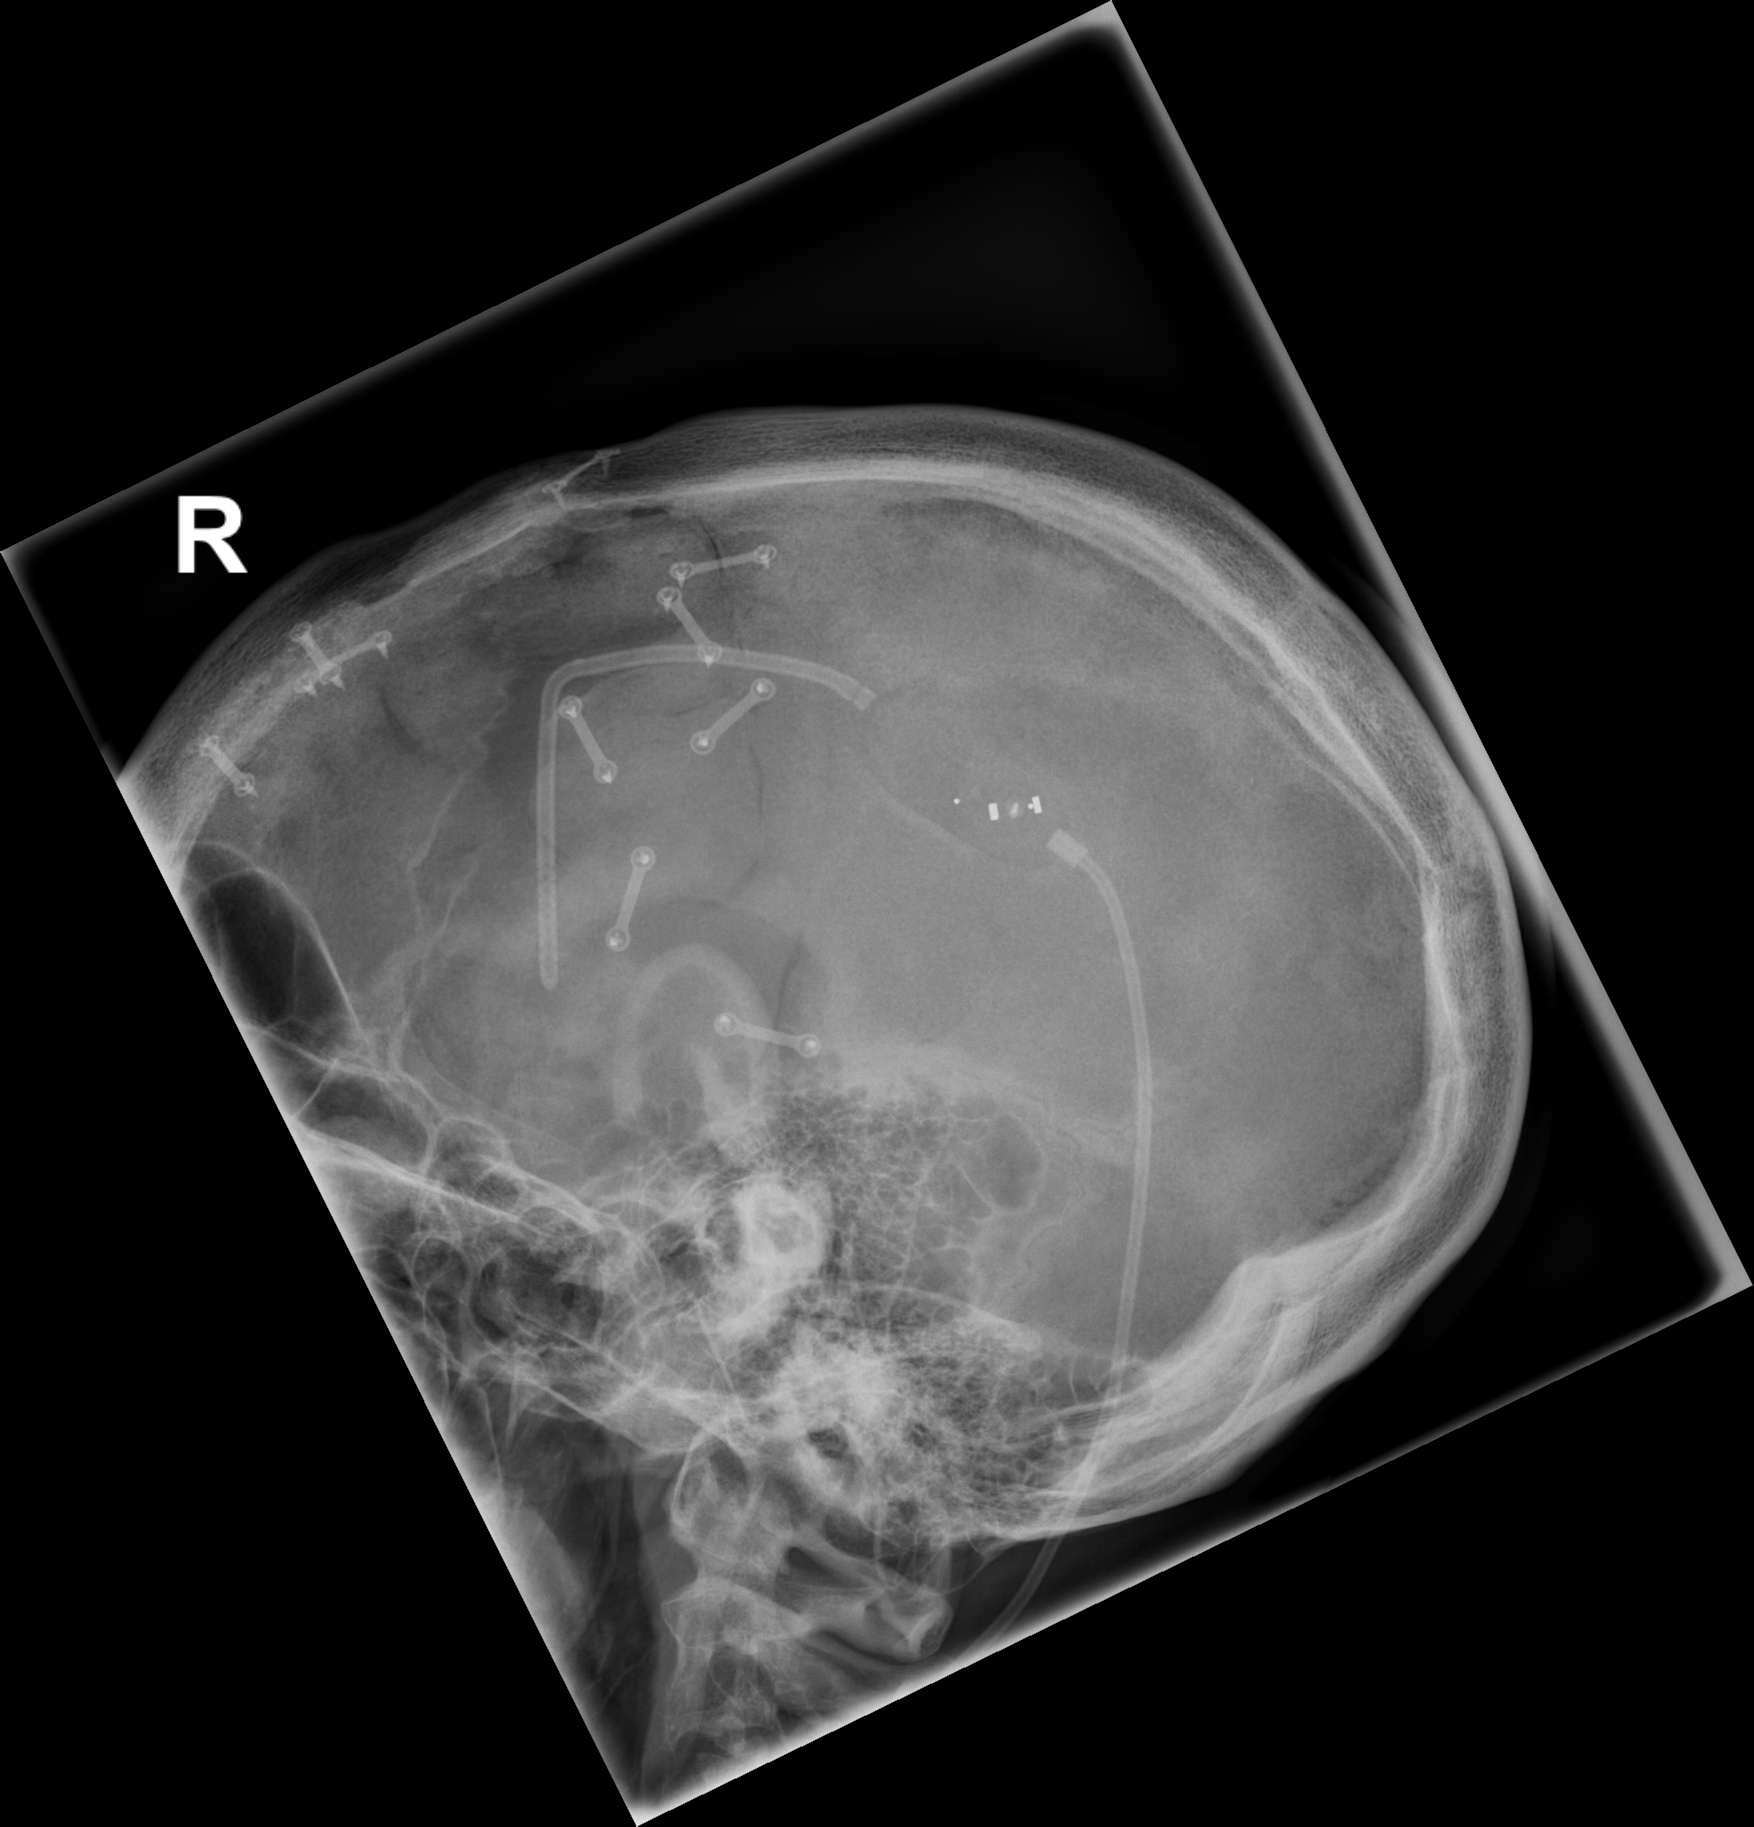Codman Certas: (948, 767, 1054, 850)
